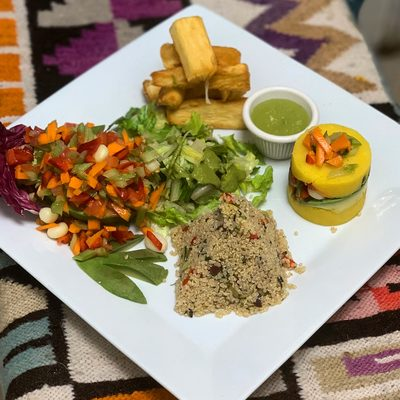soup: (287, 124, 373, 227)
sushi: (242, 86, 320, 160)
